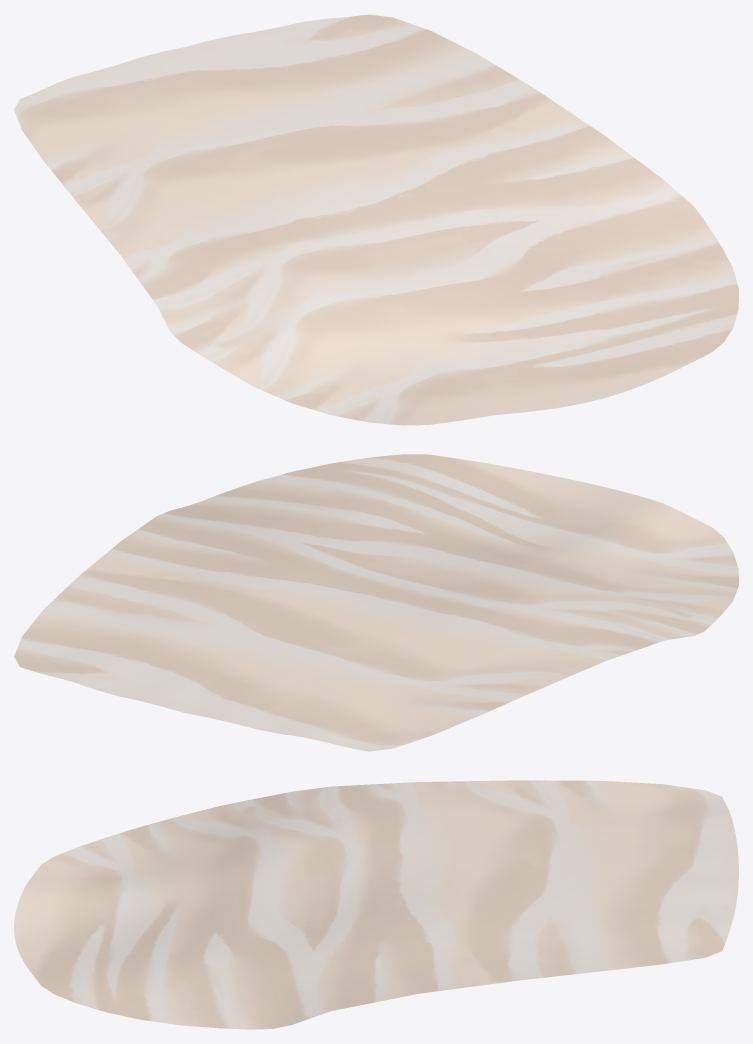
The model's file is beach.glb.
3 views of the same model, one above another, from view 1: azimuth 30°, elevation 25°; view 2: azimuth 150°, elevation 25°; view 3: azimuth 270°, elevation 25° (orthographic). The views are drawn at different scales.
Parts seen in each view (by area): view 1: Beach; view 2: Beach; view 3: Beach.
Boxes of the visible parts, box(x1,y1,x2,y2) form: Beach: box(14, 14, 738, 425); Beach: box(14, 454, 738, 751); Beach: box(14, 780, 738, 1029).
Size of what is drawn, in the model's own units: 95.63 by 11.31 by 127.
Materials: 1 (1 with a texture image).
